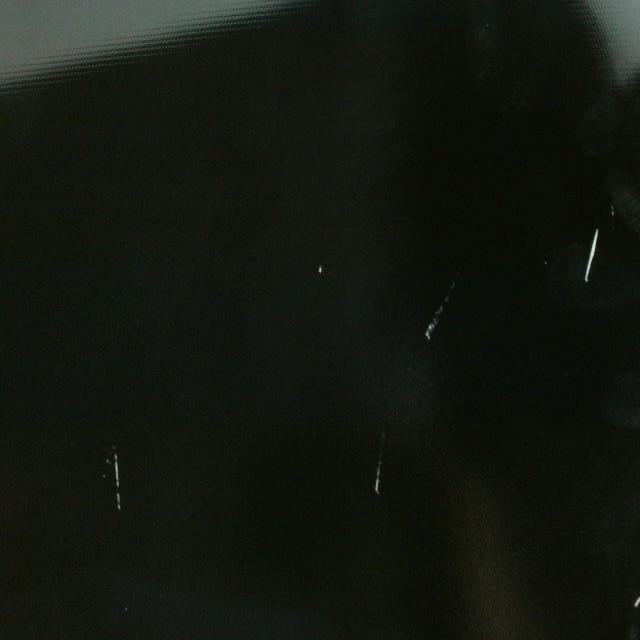scratch: (422, 262, 463, 350), (577, 220, 605, 290), (368, 417, 390, 500), (105, 442, 126, 522)
very small scratch: (314, 258, 326, 282)
